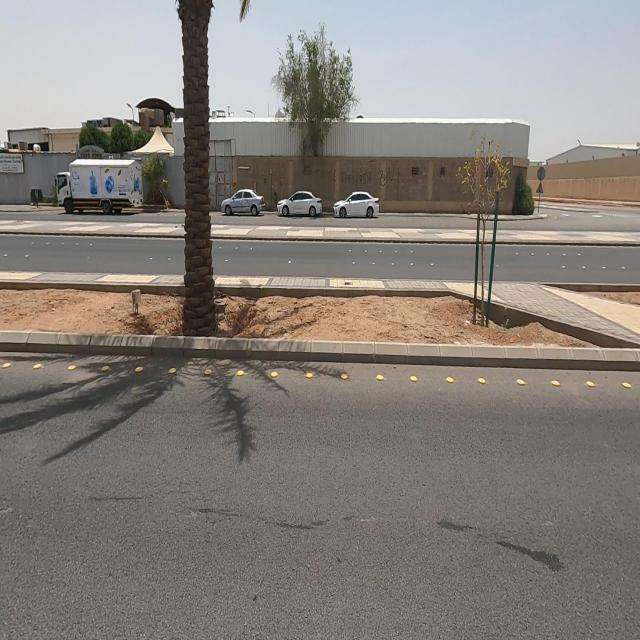Graffiti: (340, 173, 374, 189), (379, 165, 397, 187)
